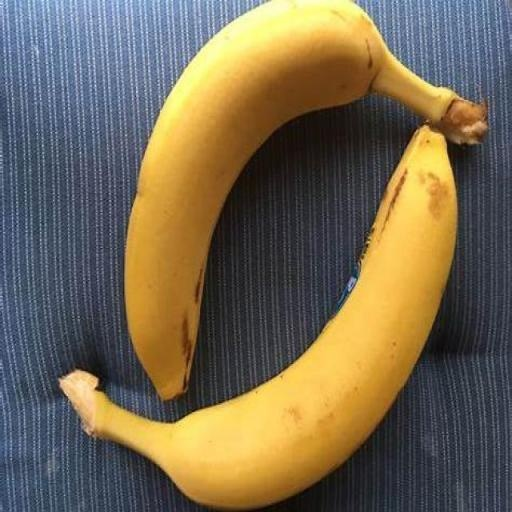fruit: (26, 181, 115, 512), (157, 0, 381, 13)
